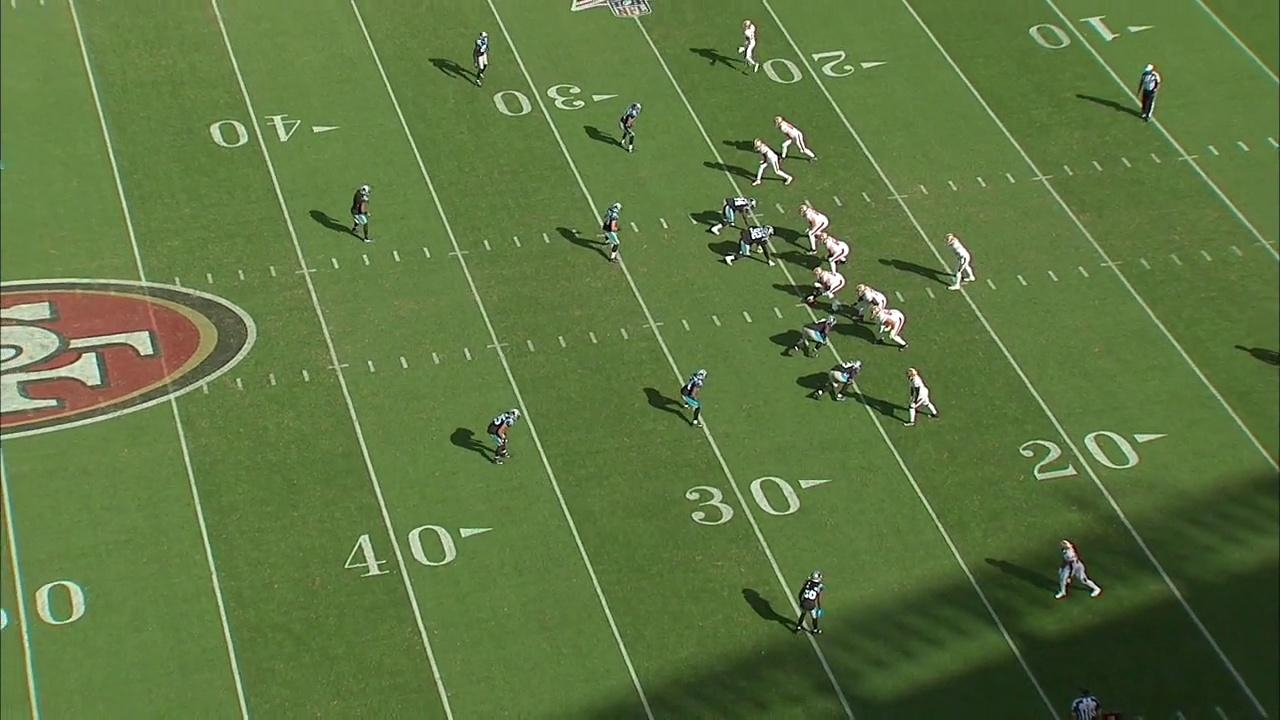defense: (725, 222, 780, 272), (484, 405, 525, 465), (814, 358, 865, 404), (789, 313, 839, 359), (709, 196, 760, 235), (795, 570, 826, 633), (680, 367, 711, 429), (615, 100, 647, 155), (601, 199, 626, 268), (349, 182, 373, 243), (473, 27, 492, 85)
oline: (870, 303, 908, 351), (803, 268, 846, 308), (798, 204, 828, 253), (821, 234, 849, 271), (850, 282, 888, 308)
qb: (942, 229, 978, 294)
ref: (1138, 60, 1163, 121), (1068, 679, 1103, 720)
skill: (1053, 533, 1101, 605), (903, 365, 940, 431), (752, 138, 795, 187), (776, 116, 819, 163), (737, 19, 763, 74)
